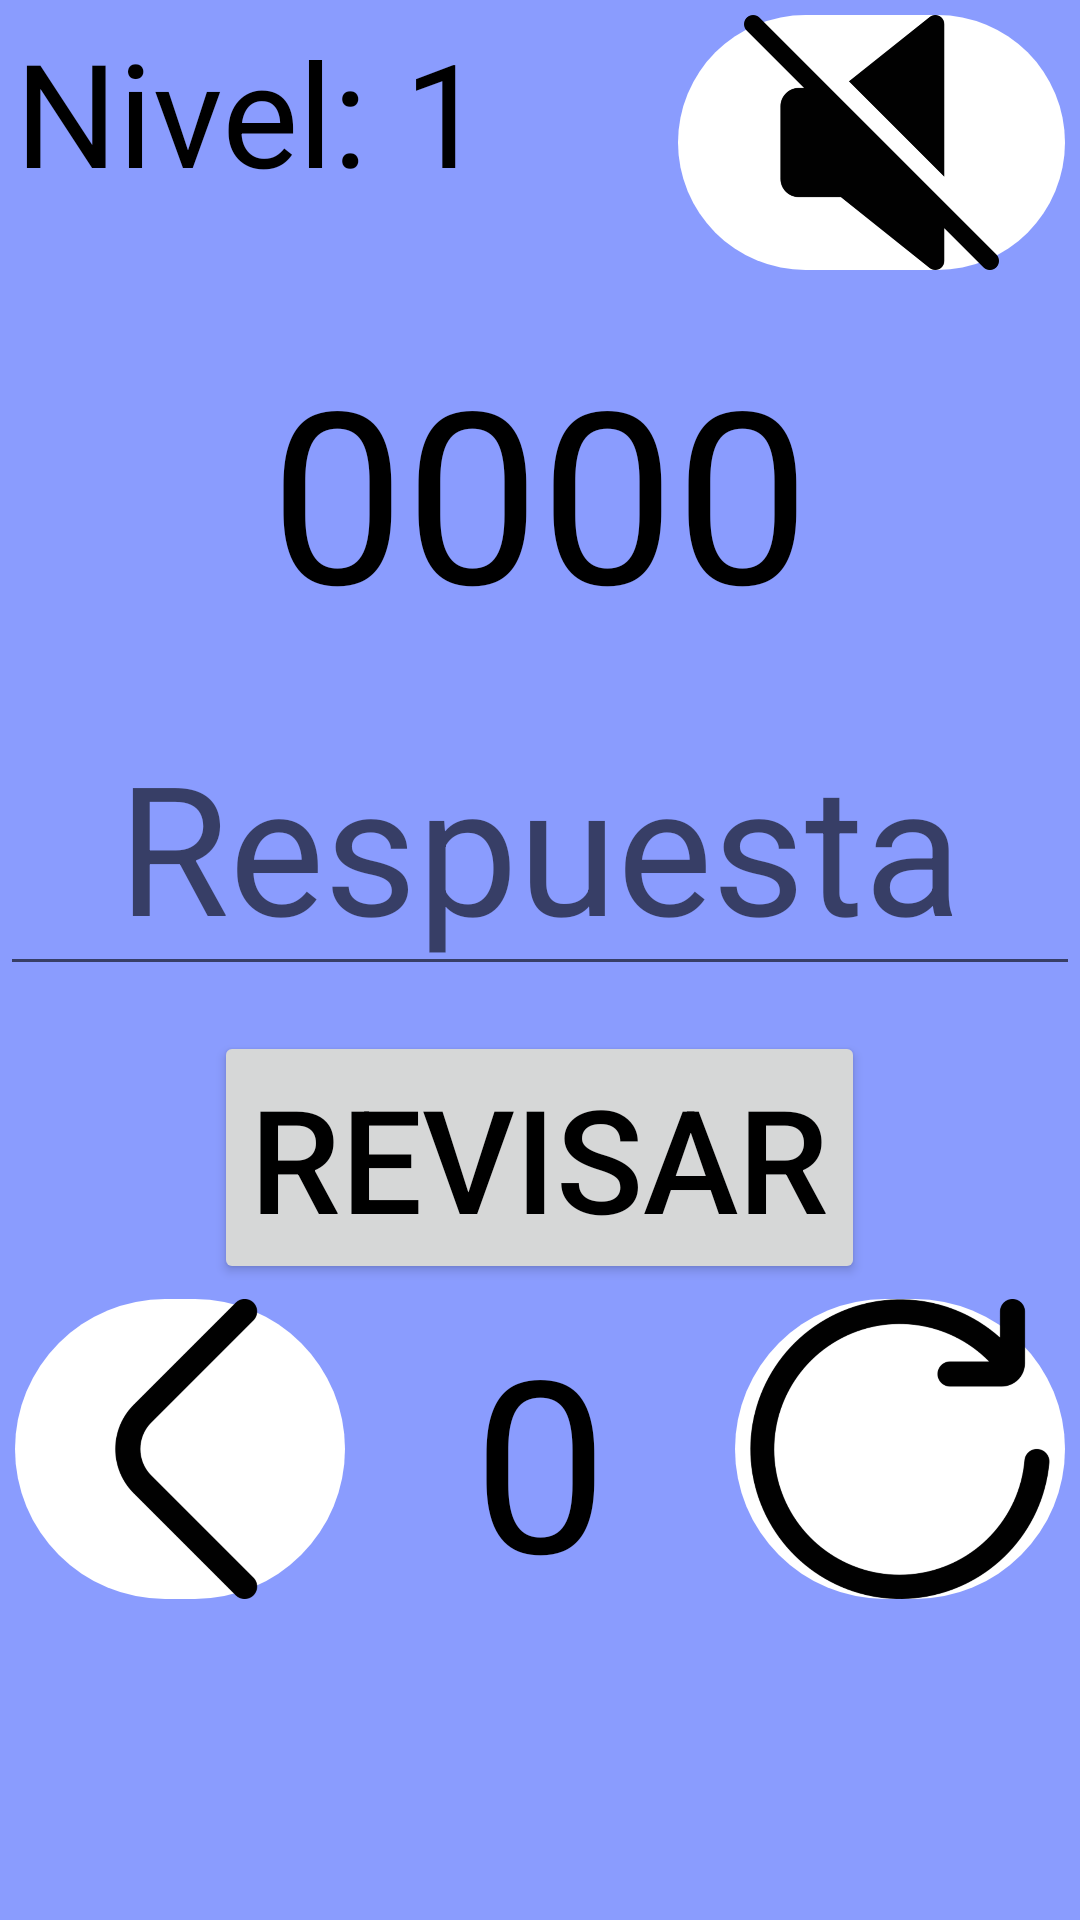

Named icons in this screenshot (1080w x 1920h) and their centers, (x=x, y=y):
angulo la izquierda: (x=180, y=1449)
gira la derecha: (x=900, y=1449)
